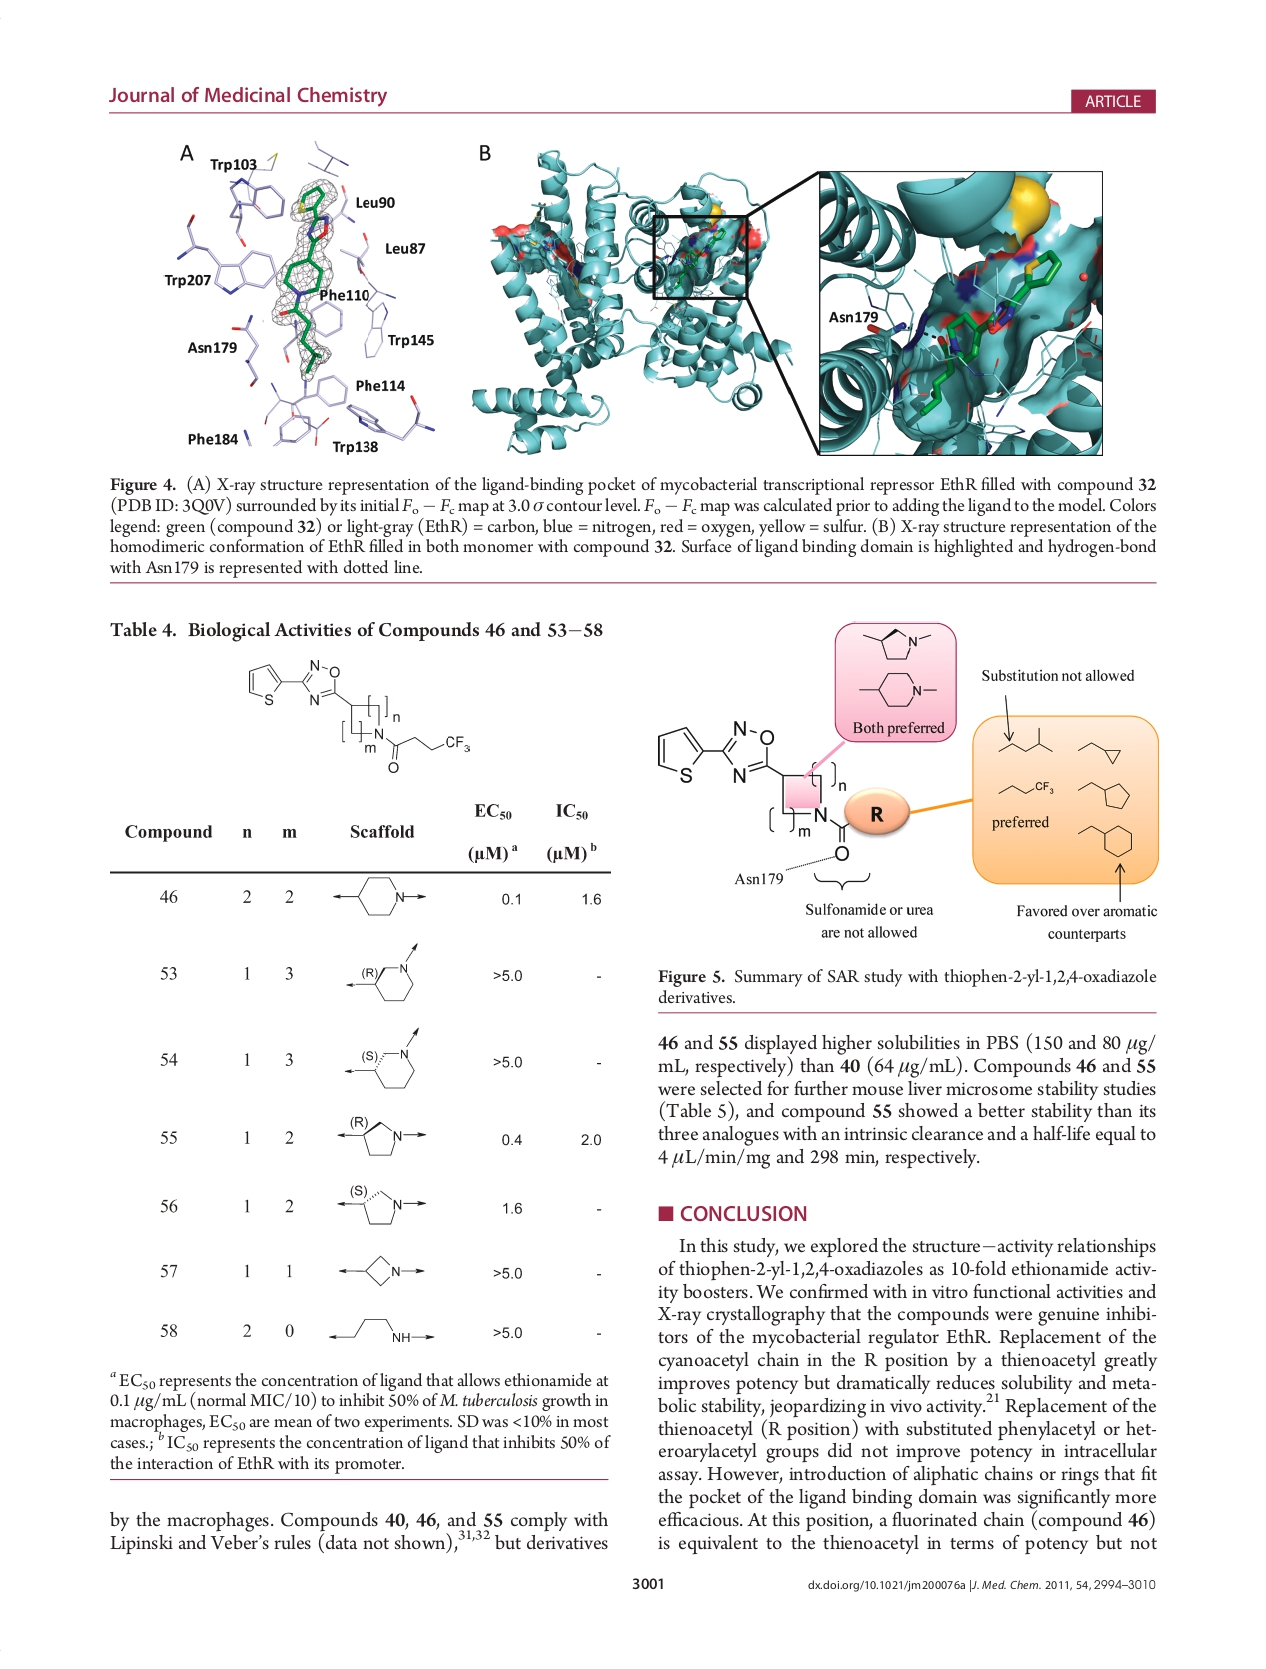exist_molecular: (654, 715, 911, 863), (242, 652, 471, 777), (340, 939, 424, 1009), (344, 1023, 420, 1091), (334, 1110, 428, 1157), (336, 1184, 430, 1229), (328, 875, 427, 918), (327, 1314, 436, 1351), (336, 1250, 428, 1290), (858, 668, 938, 710), (856, 628, 934, 664), (1075, 823, 1134, 860), (993, 723, 1056, 757), (1076, 779, 1132, 813), (993, 774, 1055, 801), (1076, 734, 1122, 766)
